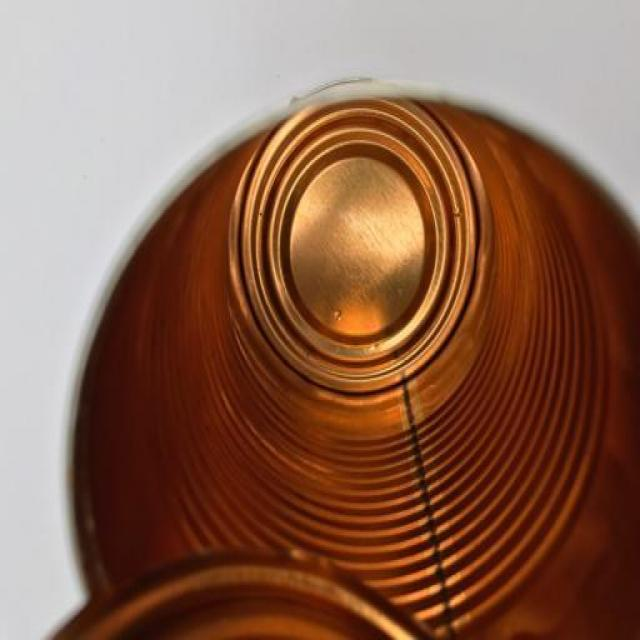metel: (42, 59, 640, 640)
